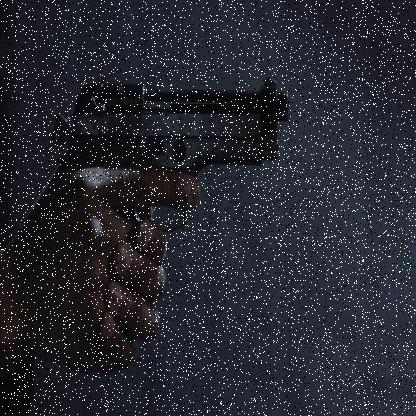pistol: (47, 67, 290, 328)
